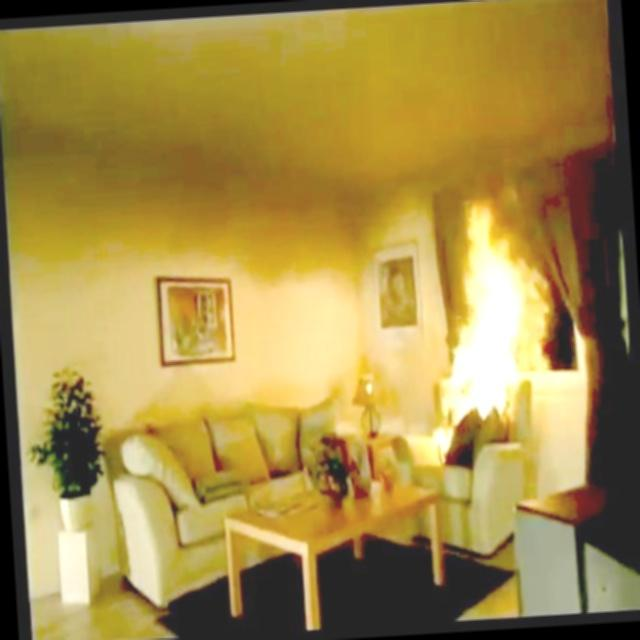fire: (416, 197, 554, 432)
